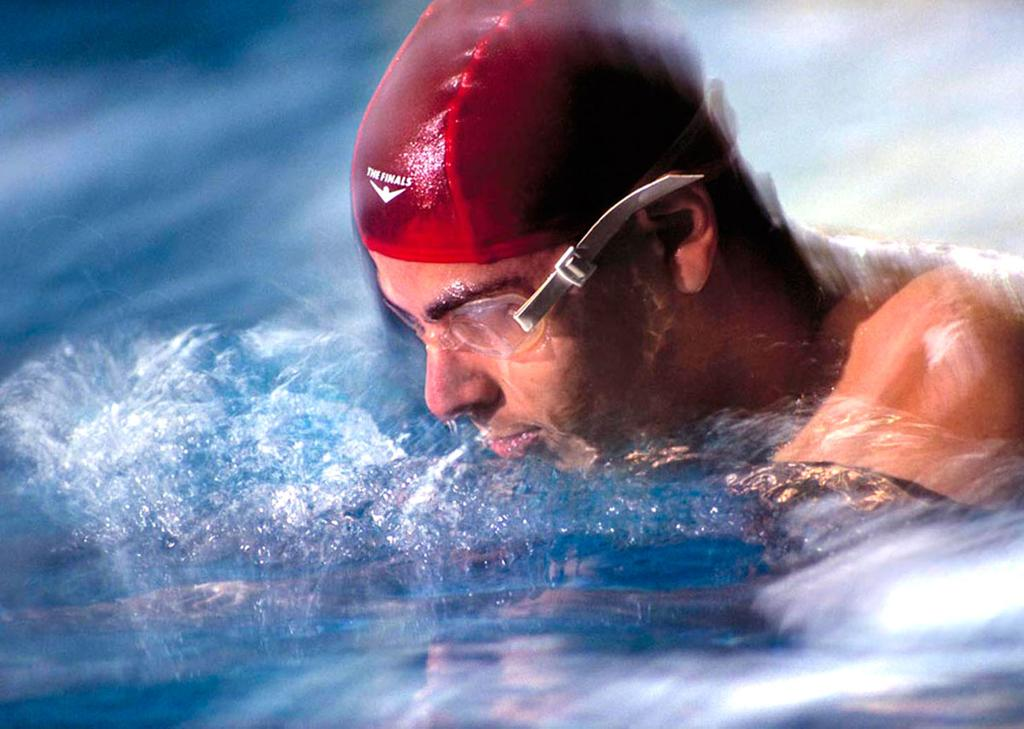face: (386, 198, 626, 490)
